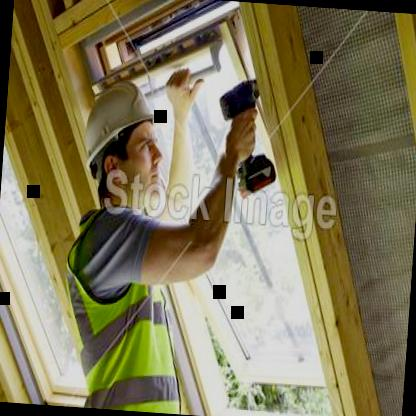helmet: (70, 57, 180, 226)
